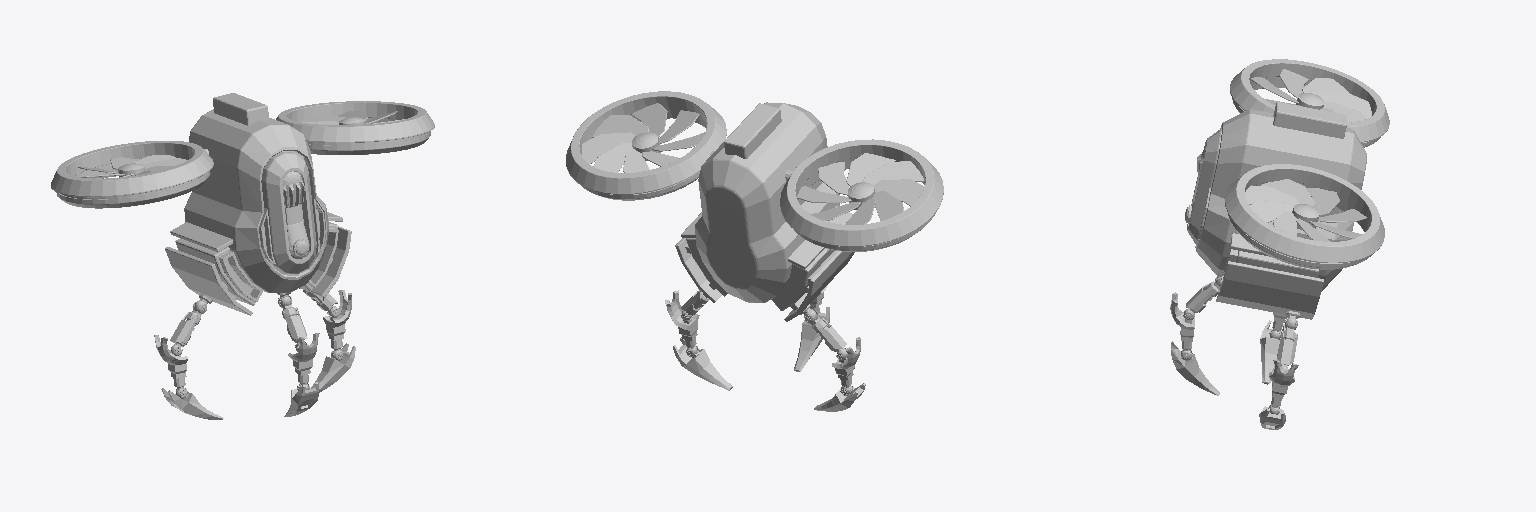
File: drone.obj
3 views of the same model, side by side, from view 1: azimuth 30°, elevation 25°; view 2: azimuth 150°, elevation 25°; view 3: azimuth 270°, elevation 25° (orthographic).
Visible parts, largest first — view 1: Drone_Body_body_0, Drone_Turb_M_R_body_0, Drone_Turb_M_L_body_0, Drone_Panel_R_body_0, 0, Drone_UPart_body_0, Drone_Turb_Blade_R_body_0, Drone_Panel_L_body_0, L_P7_leg_0, Drone_UPanel_R_body_0, Drone_Turb_Blade_L_body_0, R_P7_leg_0 (+7 smaller); view 2: Drone_Body_body_0, Drone_Turb_M_R_body_0, Drone_Turb_M_L_body_0, Drone_Turb_Blade_R_body_0, Drone_Turb_Blade_L_body_0, Drone_UPart_body_0, Drone_Panel_R_body_0, 0, L_P7_leg_0, Drone_Panel_L_body_0, F_P7_leg_0, L_P4_leg_0 (+4 smaller); view 3: Drone_Body_body_0, Drone_Turb_M_L_body_0, Drone_Turb_Blade_L_body_0, Drone_Turb_M_R_body_0, Drone_Panel_L_body_0, Drone_Turb_Blade_R_body_0, Drone_UPart_body_0, Drone_Gen_L_body_0, F_P7_leg_0, R_P7_leg_0, L_P2_leg_0, L_P4_leg_0 (+2 smaller).
Part boxes in pixels (bbox=[...]): Drone_Body_body_0: bbox=[184, 109, 328, 293]; Drone_Turb_M_R_body_0: bbox=[51, 141, 213, 208]; Drone_Turb_M_L_body_0: bbox=[276, 101, 434, 154]; Drone_Panel_R_body_0: bbox=[165, 247, 252, 315]; 0: bbox=[175, 238, 263, 305]; Drone_UPart_body_0: bbox=[213, 93, 268, 125]; Drone_Turb_Blade_R_body_0: bbox=[78, 155, 186, 178]; Drone_Panel_L_body_0: bbox=[300, 227, 351, 297]; L_P7_leg_0: bbox=[311, 343, 355, 392]; Drone_UPanel_R_body_0: bbox=[170, 222, 232, 251]; Drone_Turb_Blade_L_body_0: bbox=[300, 111, 403, 124]; R_P7_leg_0: bbox=[161, 388, 223, 419]; Drone_Body_body_0: bbox=[695, 102, 839, 302]; Drone_Turb_M_R_body_0: bbox=[780, 139, 943, 251]; Drone_Turb_M_L_body_0: bbox=[566, 91, 726, 200]; Drone_Turb_Blade_R_body_0: bbox=[797, 153, 924, 224]; Drone_Turb_Blade_L_body_0: bbox=[582, 103, 704, 172]; Drone_UPart_body_0: bbox=[724, 103, 781, 158]; Drone_Panel_R_body_0: bbox=[784, 251, 854, 321]; 0: bbox=[771, 248, 834, 310]; L_P7_leg_0: bbox=[673, 337, 732, 390]; Drone_Panel_L_body_0: bbox=[675, 238, 721, 302]; F_P7_leg_0: bbox=[794, 307, 829, 371]; L_P4_leg_0: bbox=[665, 290, 699, 340]; Drone_Body_body_0: bbox=[1185, 109, 1366, 291]; Drone_Turb_M_L_body_0: bbox=[1225, 164, 1384, 269]; Drone_Turb_Blade_L_body_0: bbox=[1245, 179, 1366, 241]; Drone_Turb_M_R_body_0: bbox=[1230, 59, 1389, 147]; Drone_Panel_L_body_0: bbox=[1216, 261, 1323, 319]; Drone_Turb_Blade_R_body_0: bbox=[1251, 69, 1371, 122]; Drone_UPart_body_0: bbox=[1273, 102, 1346, 138]; Drone_Gen_L_body_0: bbox=[1220, 249, 1318, 287]; F_P7_leg_0: bbox=[1171, 341, 1219, 395]; R_P7_leg_0: bbox=[1260, 320, 1285, 384]; L_P2_leg_0: bbox=[1277, 319, 1297, 366]; L_P4_leg_0: bbox=[1269, 360, 1298, 398].
Size of the model in its own units: 191 by 151 by 101.